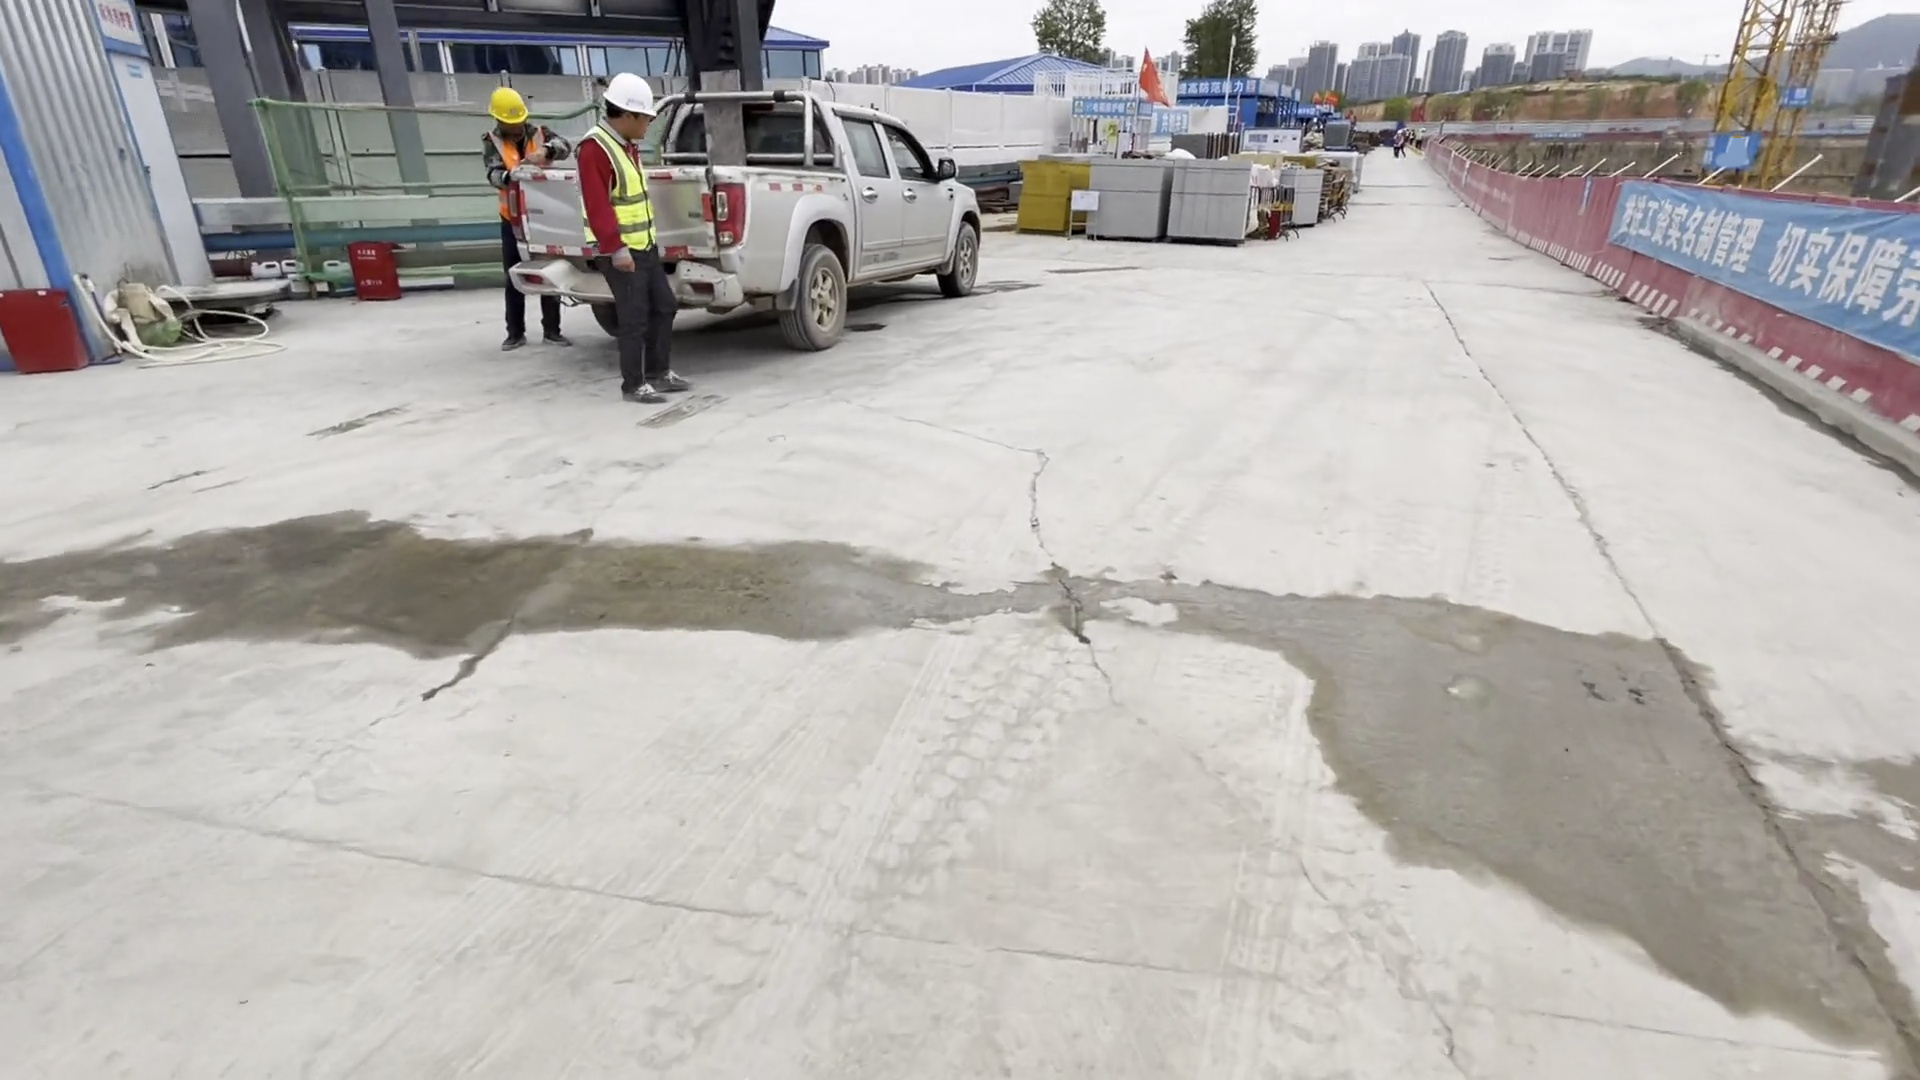board: (1011, 155, 1077, 234)
brick: (1081, 155, 1255, 245), (1277, 158, 1325, 233)
fence: (1426, 145, 1920, 471)
helmet: (599, 75, 654, 120), (488, 87, 525, 123)
person: (593, 71, 695, 400), (470, 81, 580, 355)
slogan: (1611, 176, 1920, 344), (1172, 81, 1264, 100)
vest: (581, 126, 659, 251), (485, 129, 551, 222)
